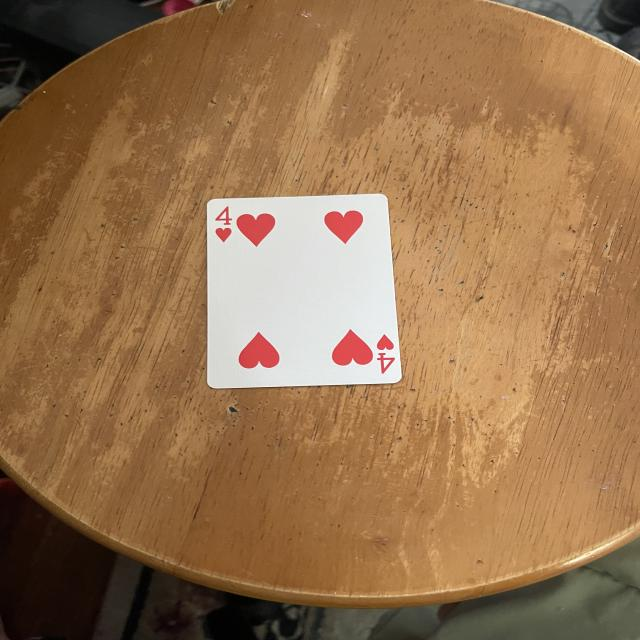4 of hearts: (208, 194, 403, 385)
